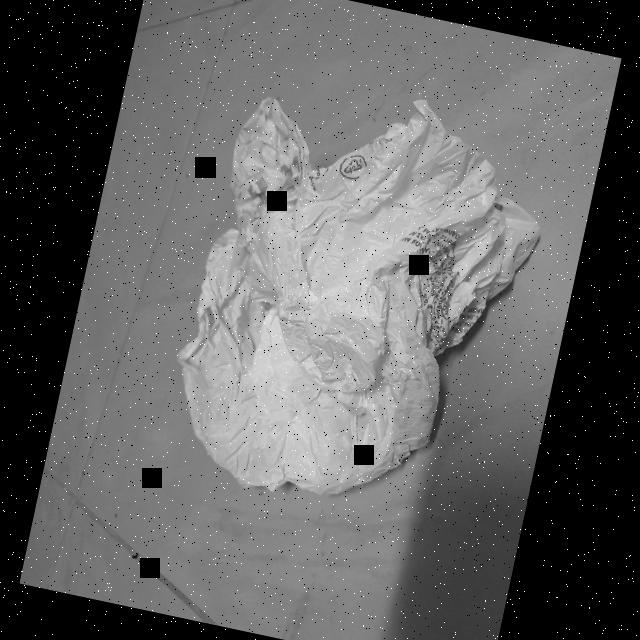plastic_bag: (142, 50, 574, 545)
